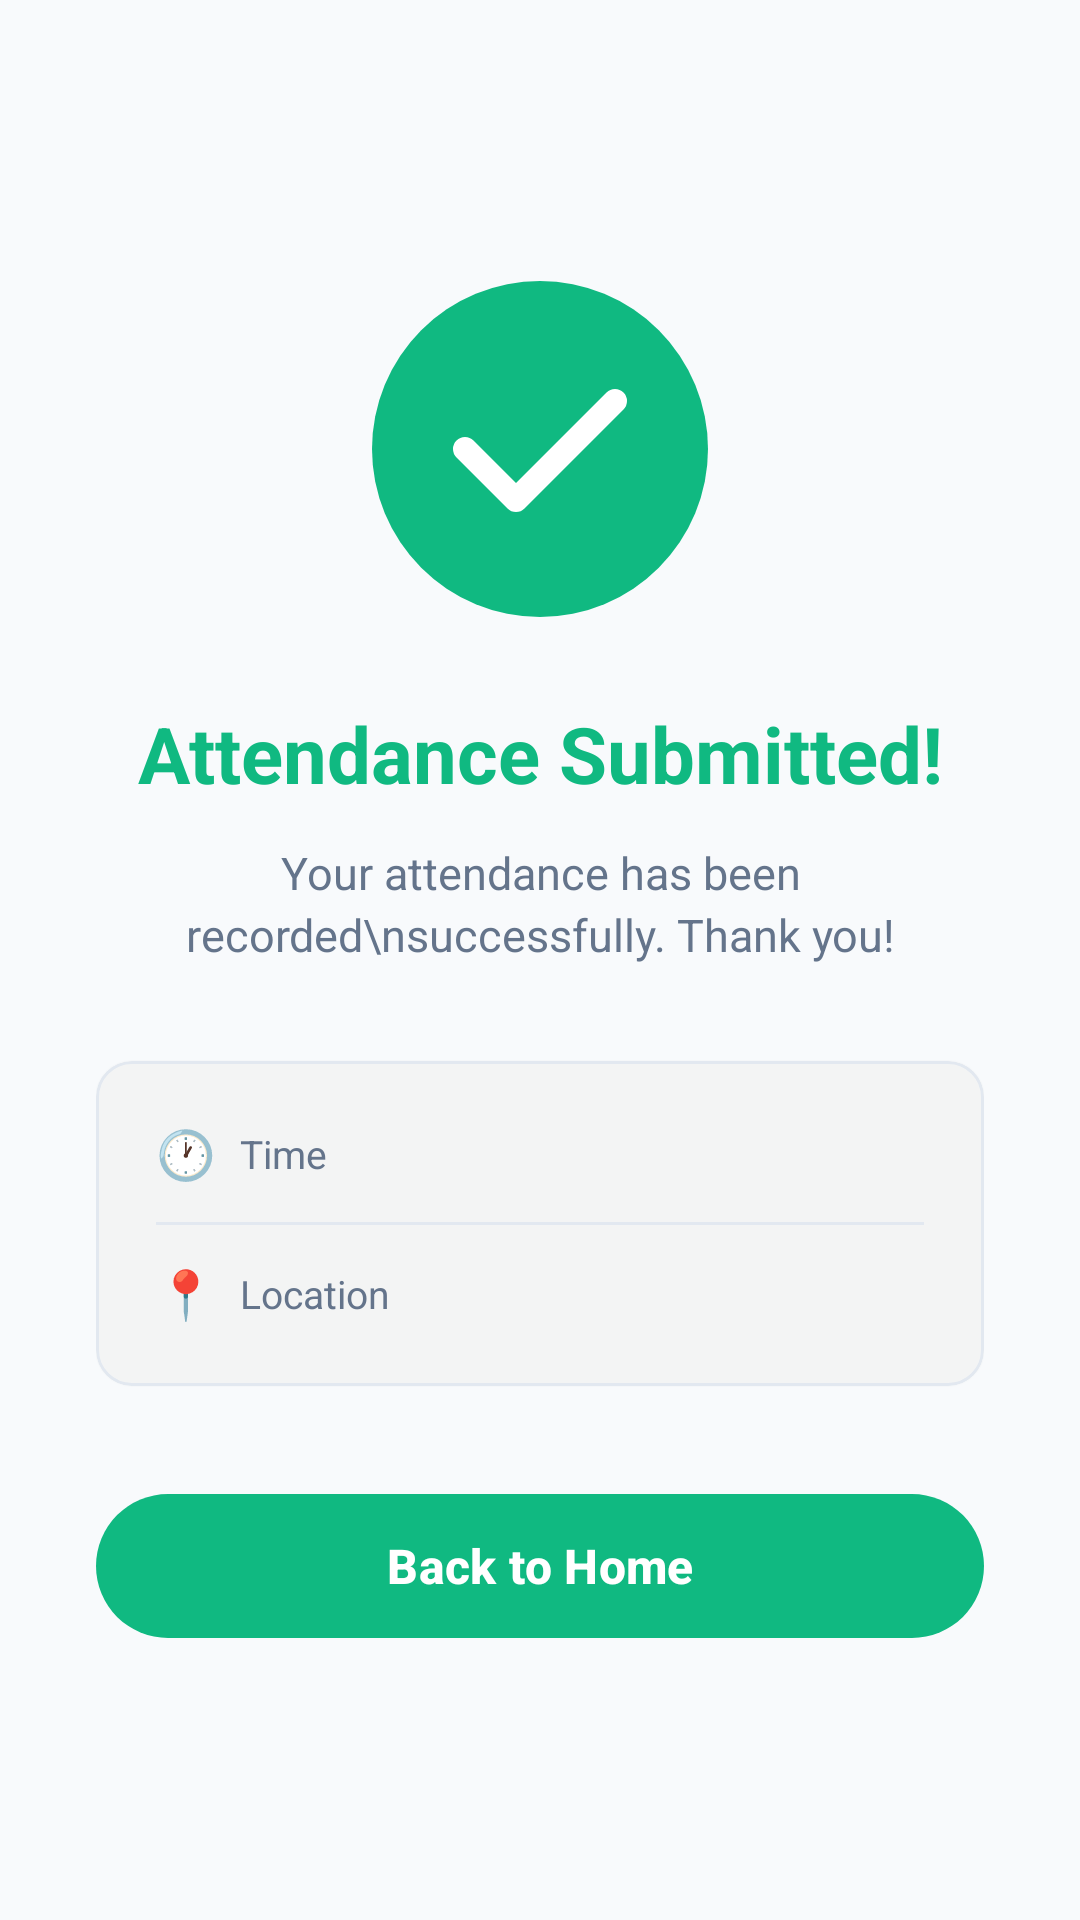

Named icons in this screenshot (1080 × 1920) and their bounding boxes, (left=x1, top=y1, right=x2, bottom=y2):
Success: (left=372, top=281, right=708, bottom=617)
